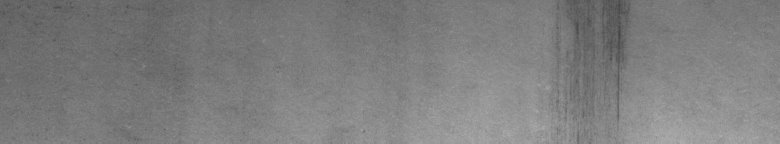ka: (556, 4, 624, 120)
